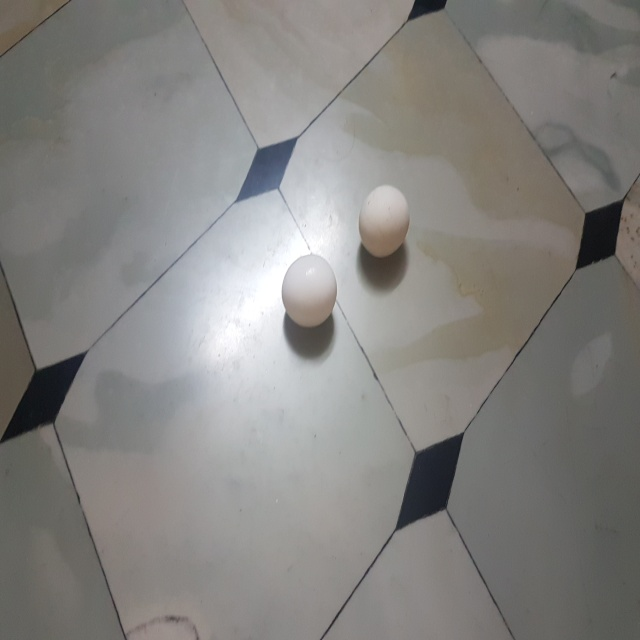eggs: (282, 254, 337, 325), (357, 187, 413, 256)
